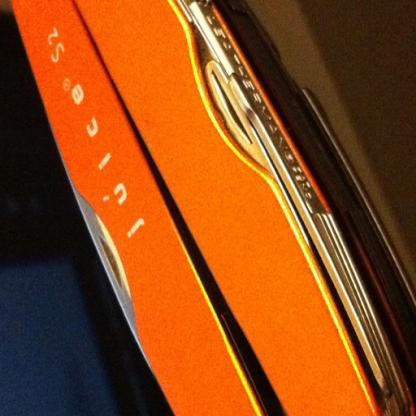knife: (41, 0, 415, 415), (0, 0, 340, 415)
